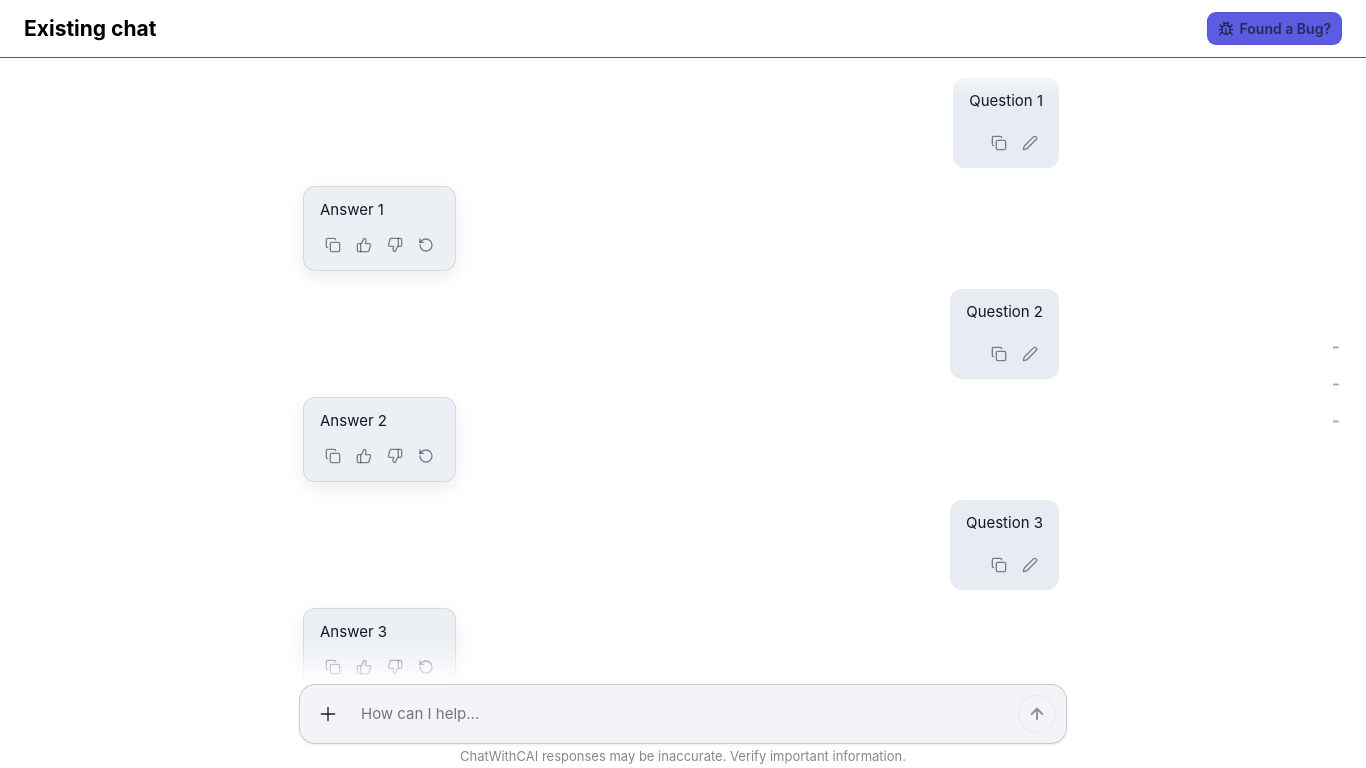
Test case: chat message sending › recovers a persisted response after the stream closes early
Check: the text "Answer 3" is shown, box left=320, top=622, right=387, bottom=640
Type "Recover this response" into the text box. click: coordinates (678, 714)
box: left=355, top=704, right=1000, bottom=724
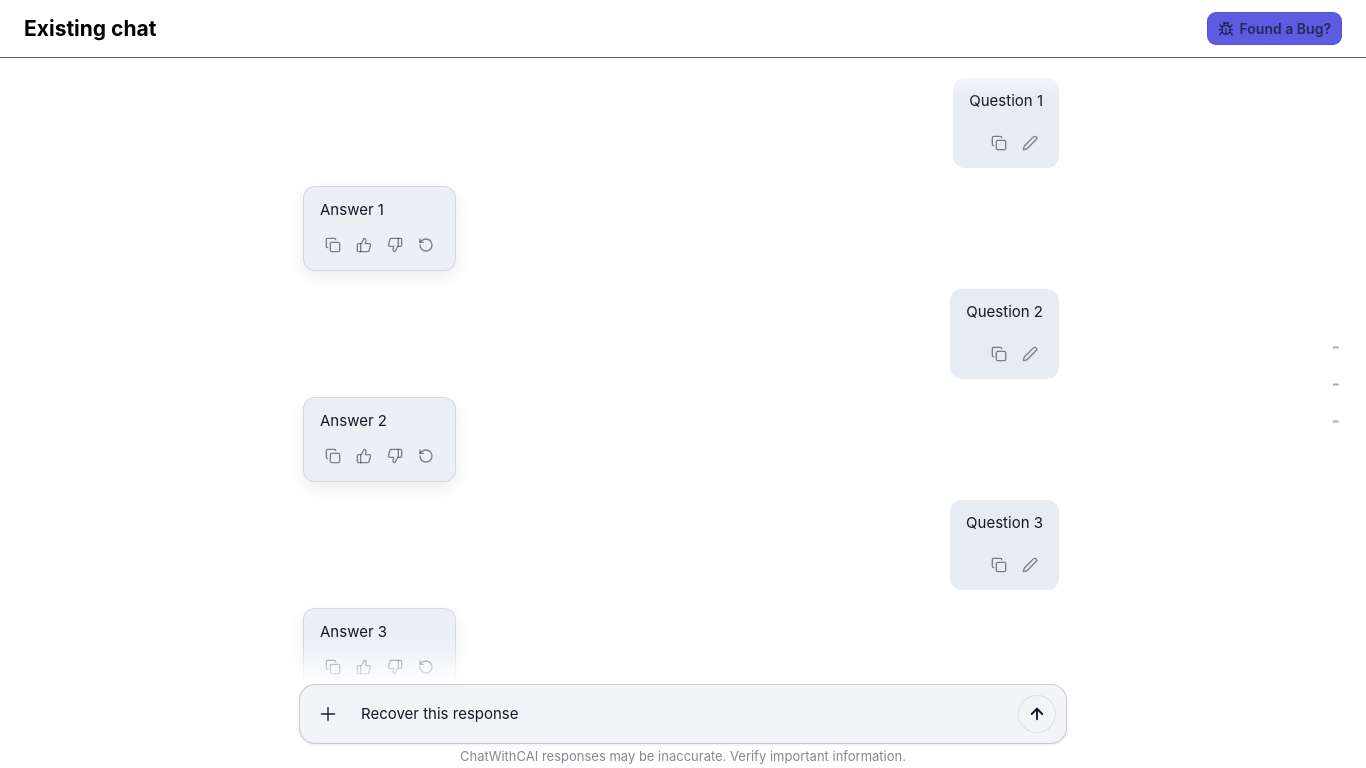
Click the button named "Send message". click: coordinates (1037, 714)
box: left=1018, top=695, right=1056, bottom=733
(page scrolled)
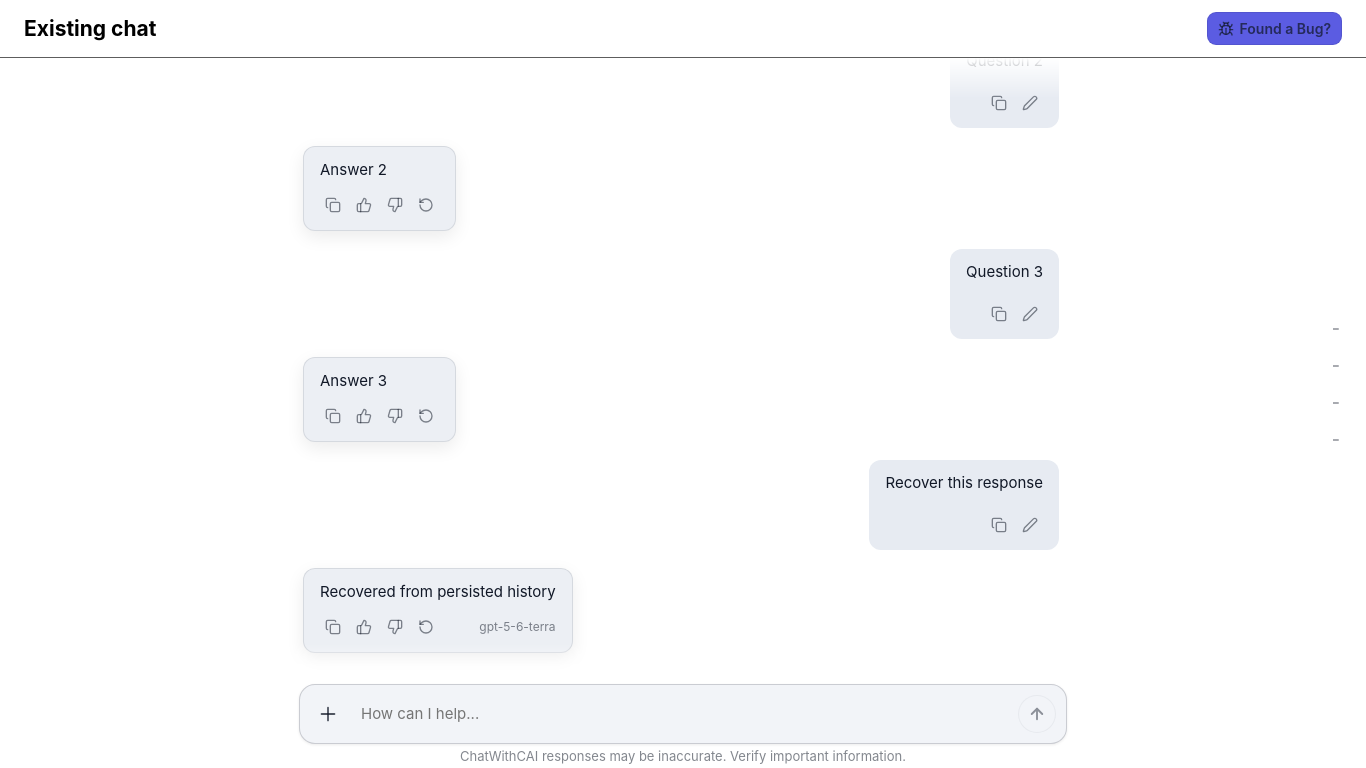
Check: the text "Recovered from persisted history" is shown, box left=320, top=580, right=556, bottom=603
